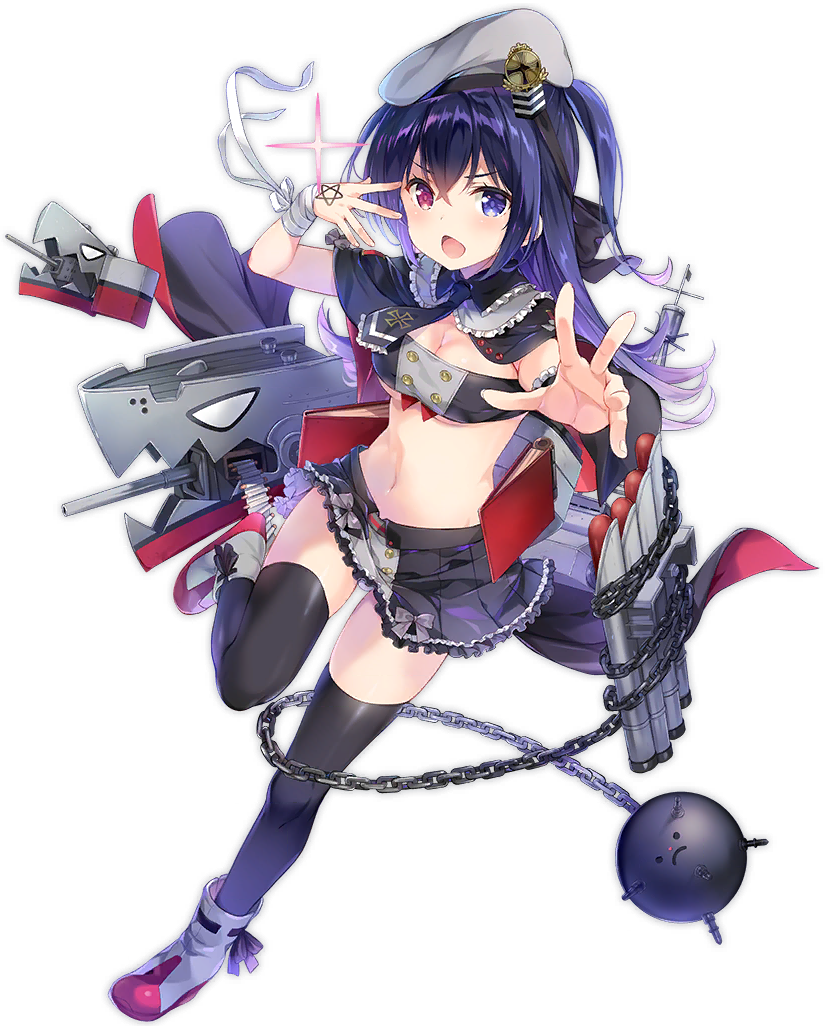person: (100, 1, 763, 923)
